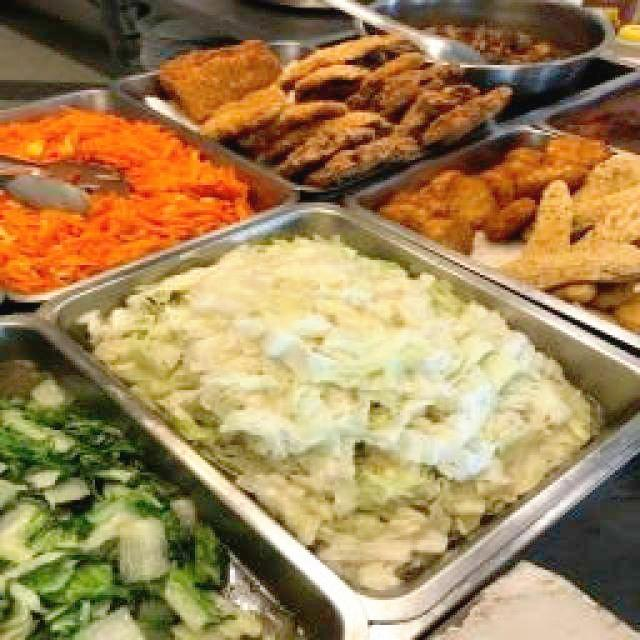carrot_eggs: (1, 105, 255, 298)
chinese_cabbage: (74, 229, 596, 592)
